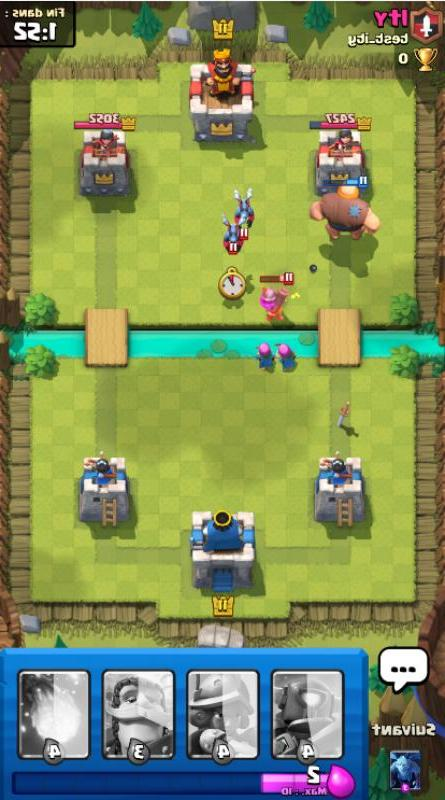archere: (275, 342, 297, 372), (253, 342, 275, 372)
gargouille: (221, 212, 244, 255), (234, 186, 256, 228)
geant: (309, 176, 381, 239)
mousquetaire: (260, 272, 294, 322)
